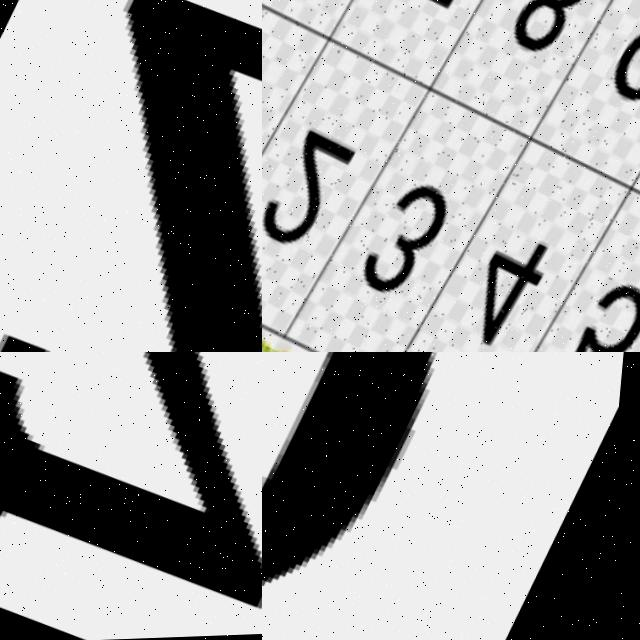2: (262, 111, 378, 262)
3: (344, 166, 478, 321)
4: (449, 218, 575, 352)
5: (552, 269, 640, 352)
7: (0, 352, 262, 640)
8: (492, 0, 618, 72)
9: (262, 352, 556, 640), (601, 0, 640, 119)
Z: (0, 0, 262, 352)
